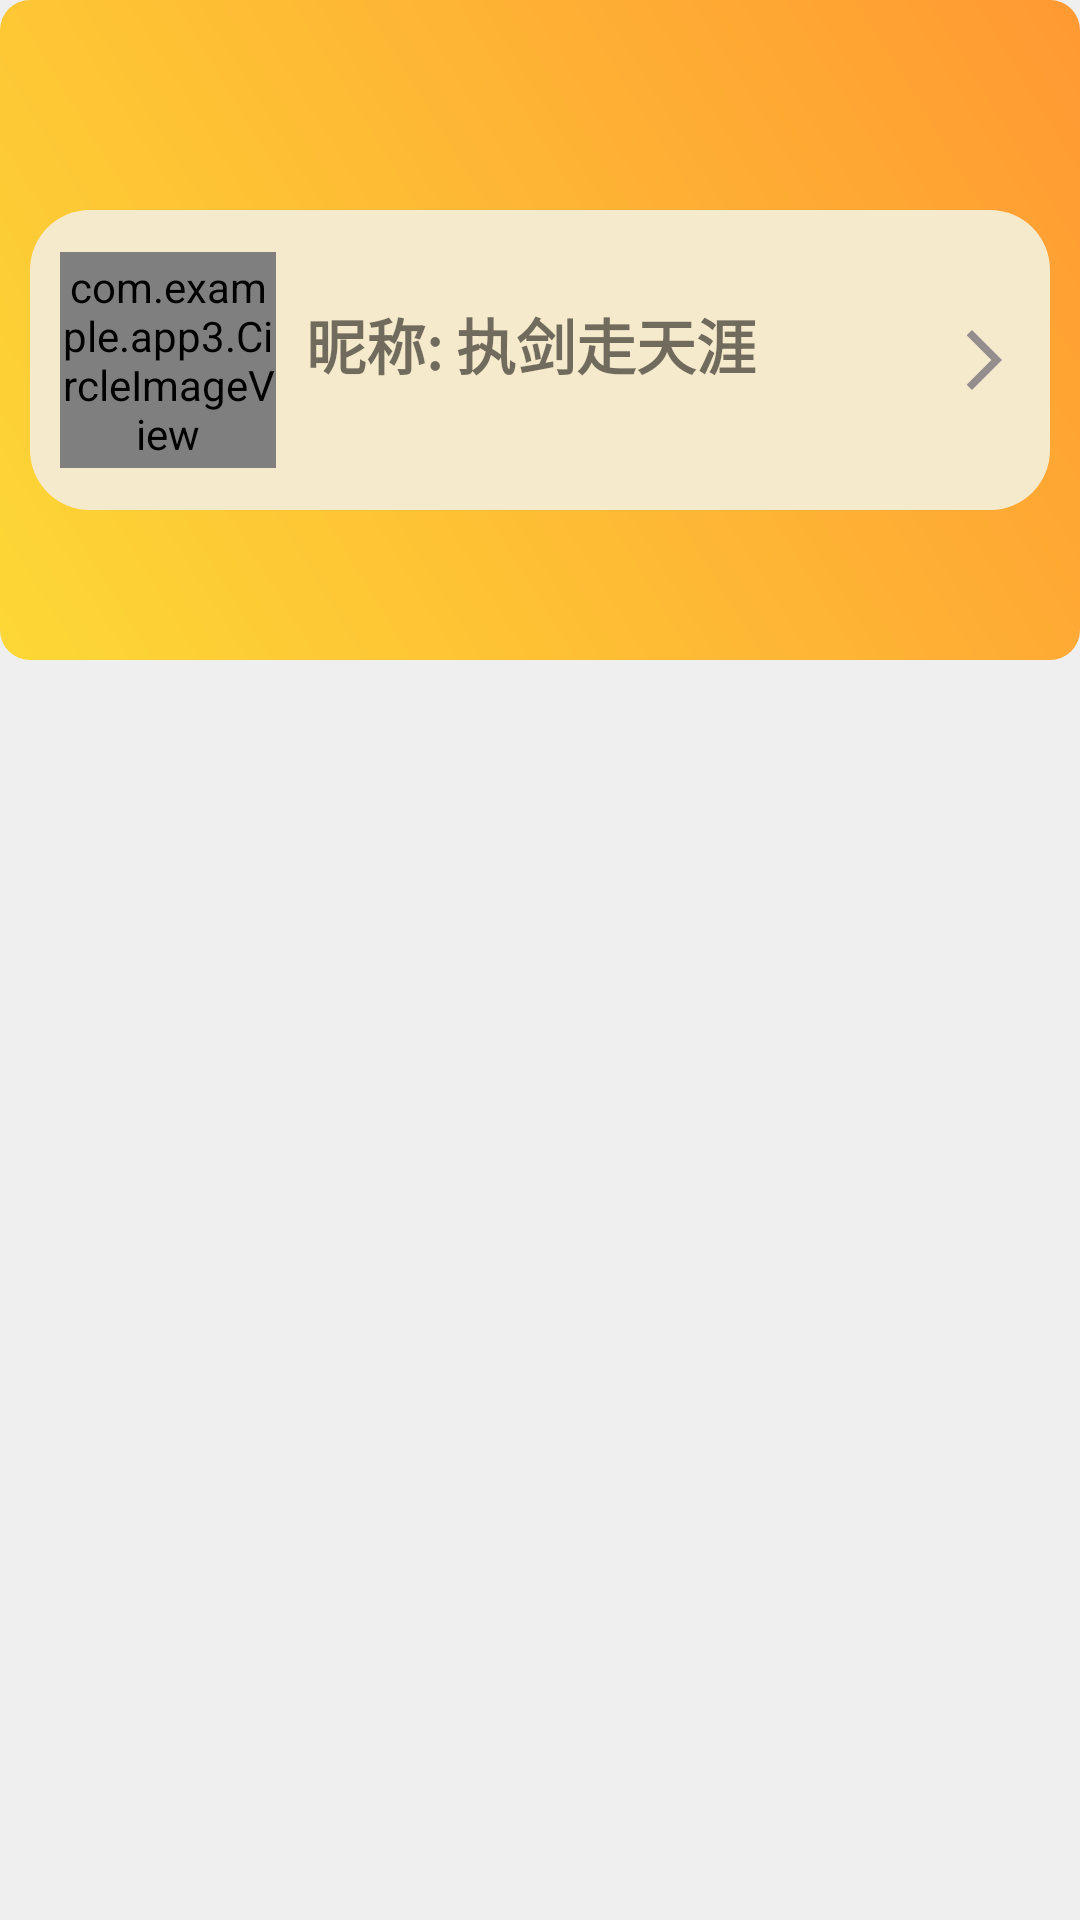

Named icons in this screenshot (1080 × 1920) and their bounding boxes, {"left": x1, "top": y1, "right": x2, "bottom": y2}:
arrow forward: {"left": 967, "top": 330, "right": 1002, "bottom": 390}
